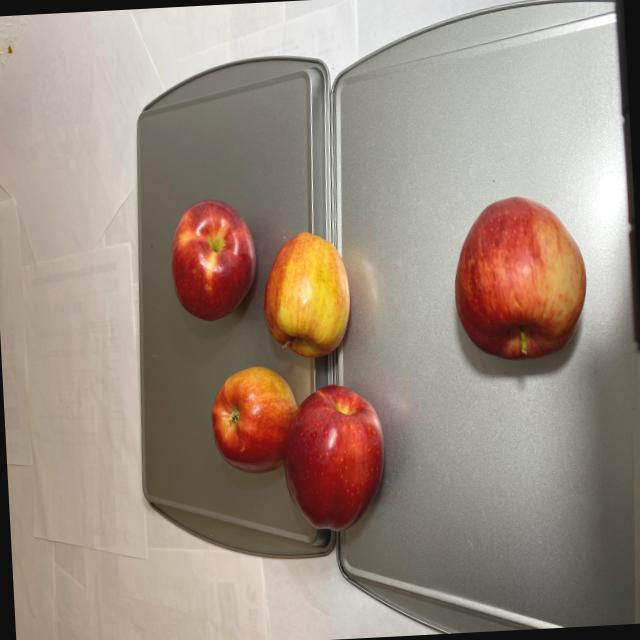apple: (168, 188, 390, 542), (449, 188, 592, 364)
